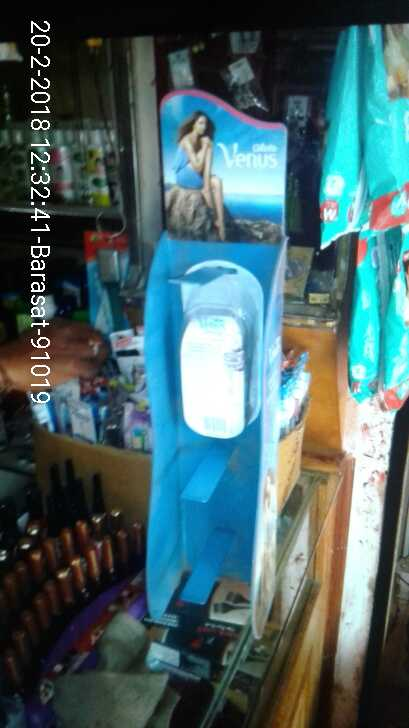reject: (183, 269, 260, 444)
